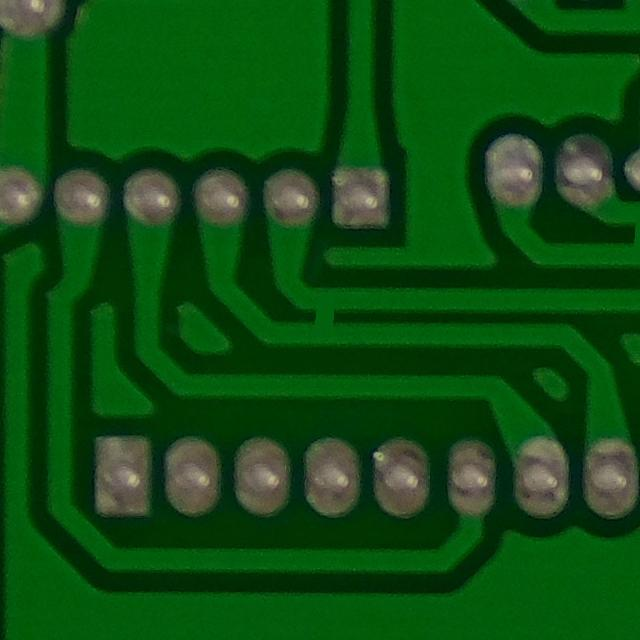short: (277, 277, 363, 363)
